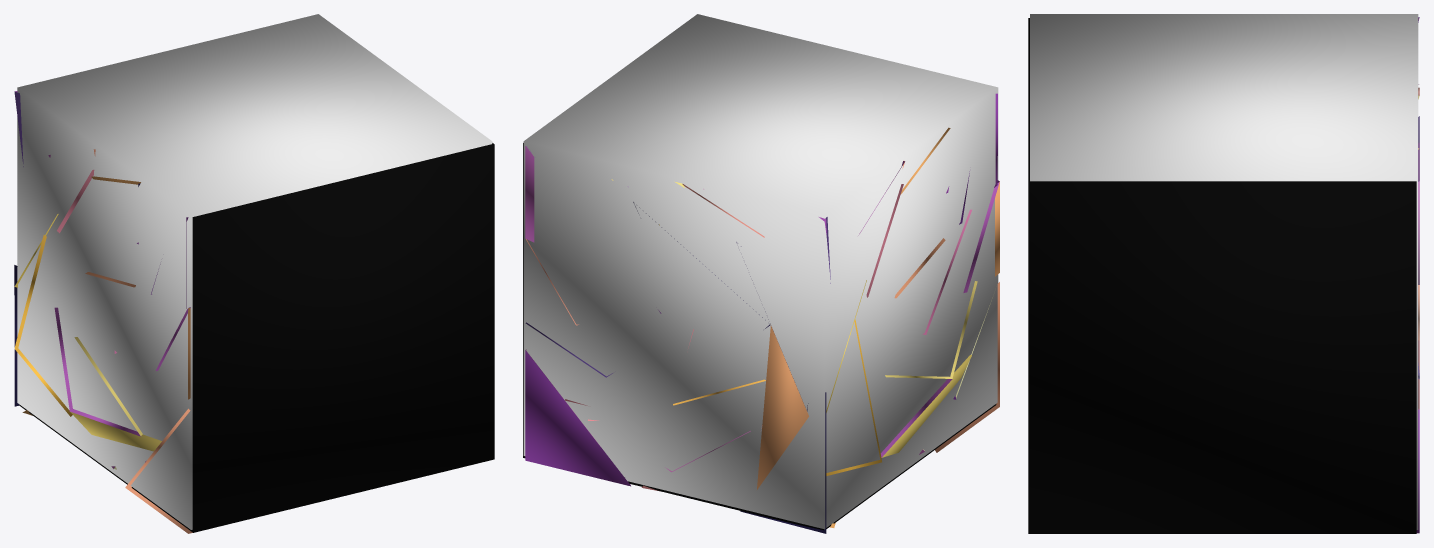
3 renders of one model, left to right at view 1: azimuth 30°, elevation 25°; view 2: azimuth 150°, elevation 25°; view 3: azimuth 270°, elevation 25°, orthographic. The views are drawn at different scales.
Parts seen in each view (by area): view 1: Renderer Node; view 2: Renderer Node; view 3: Renderer Node.
Boxes of the visible parts, left/top/right/bottom form: Renderer Node: left=14, top=14, right=494, bottom=533; Renderer Node: left=523, top=14, right=999, bottom=533; Renderer Node: left=1028, top=14, right=1419, bottom=533.
Size of the model in its own units: 2.34 by 2.34 by 2.33.
